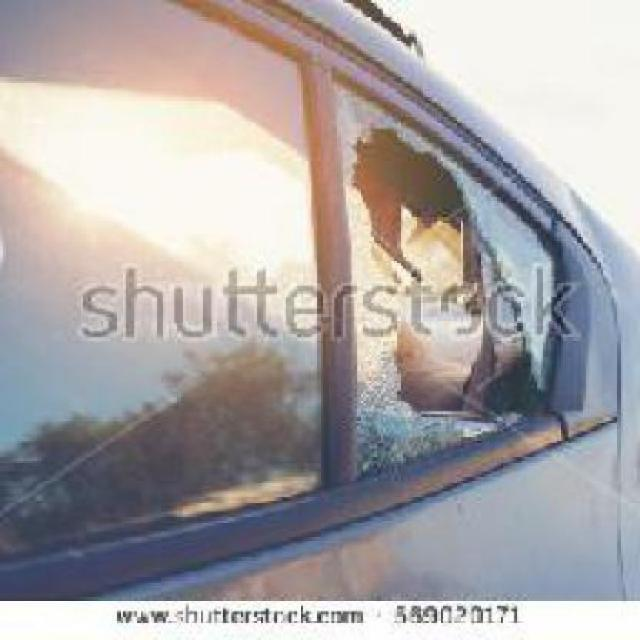damaged-window: (318, 62, 587, 490)
